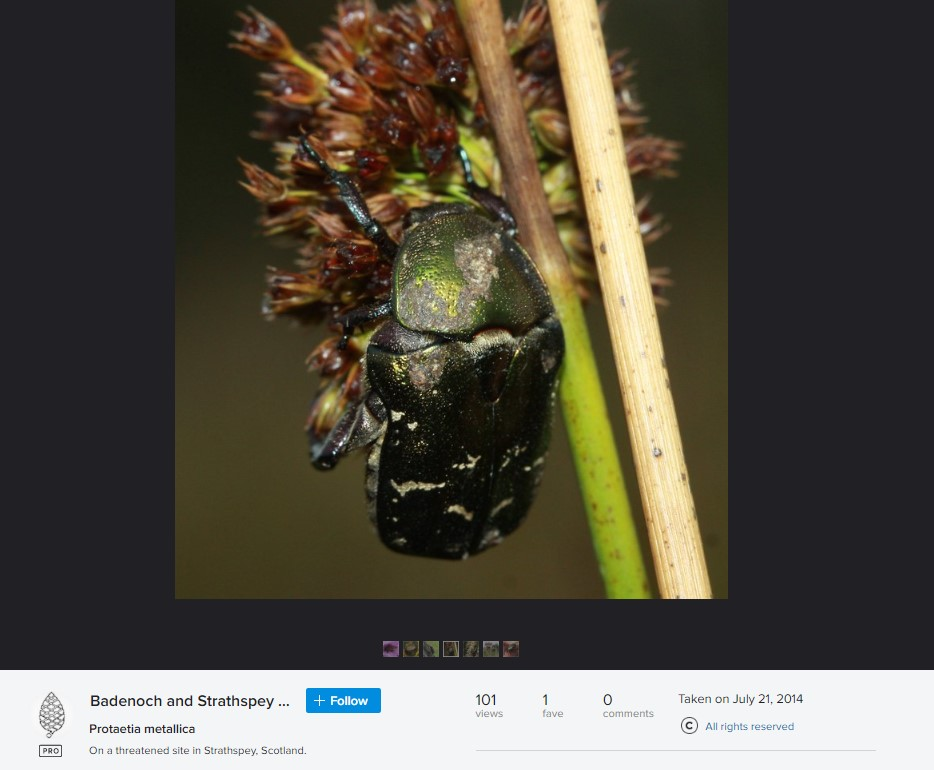Protaetia_metallica: (283, 130, 587, 563)
